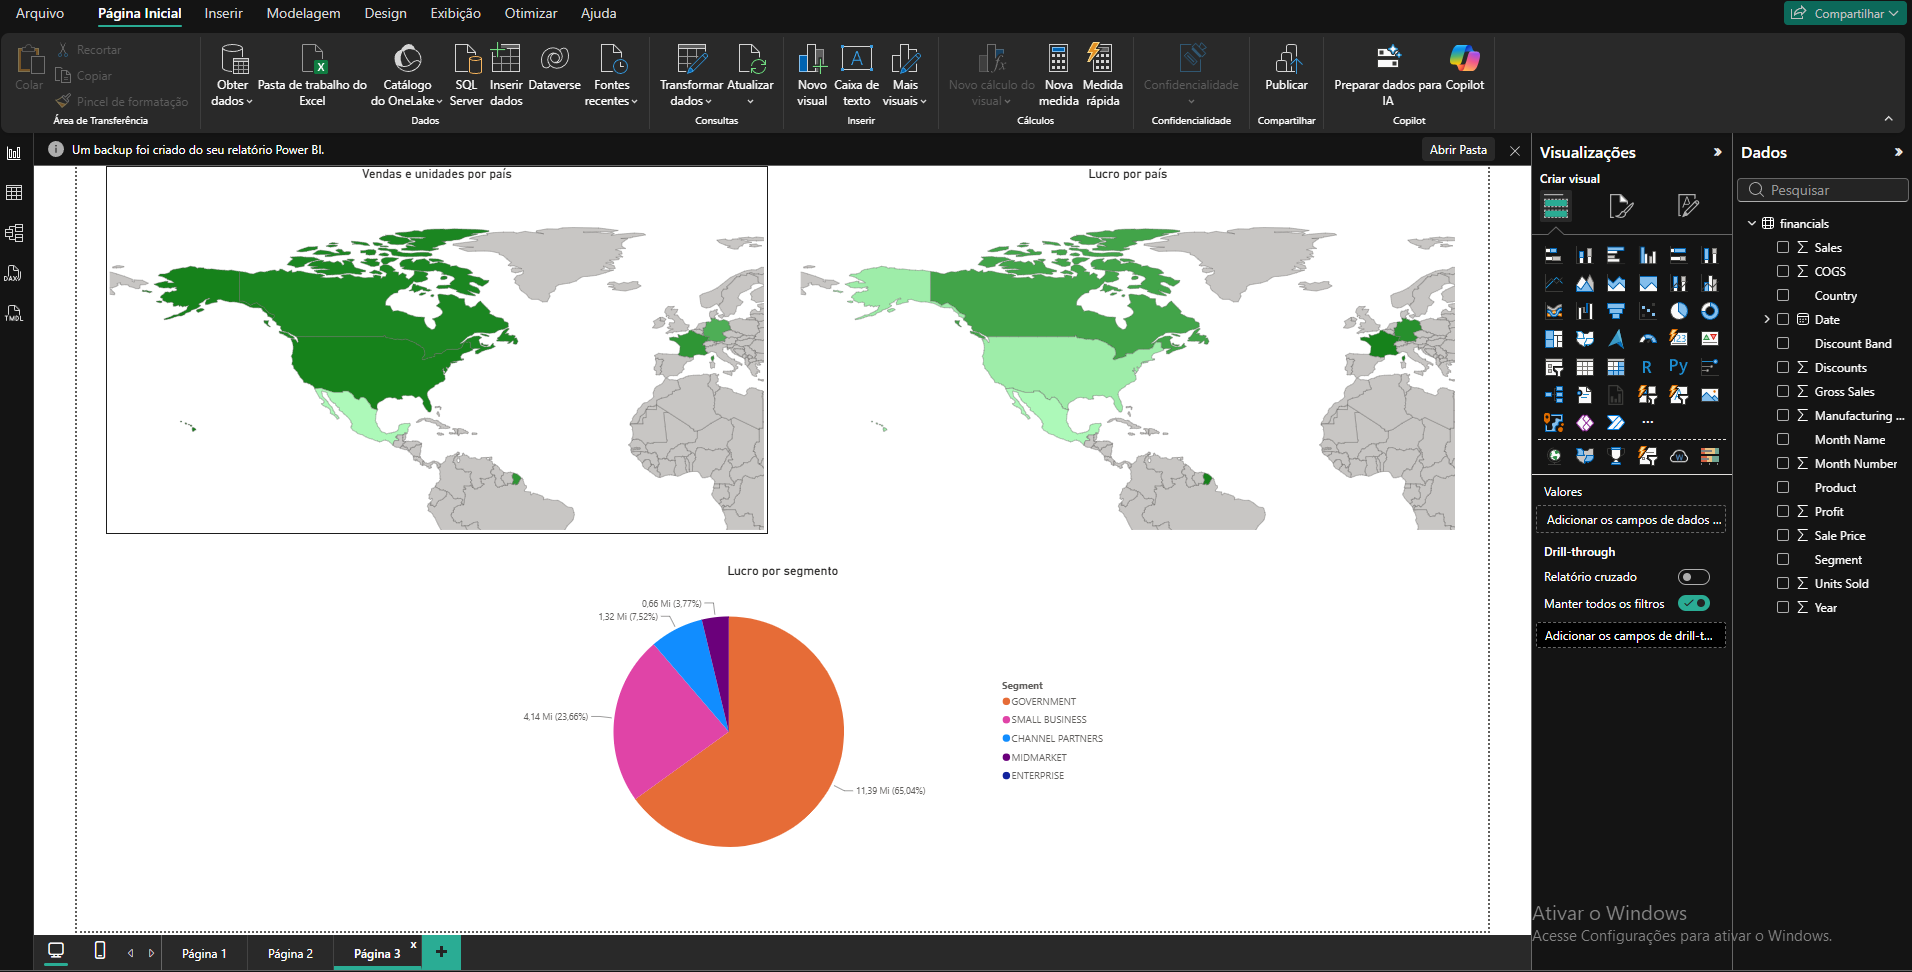

The page's visual inventory and layout, read from the dashboard file:
{"tool":"powerbi","page":{"name":"Página 3","canvas":[1920,1080],"ordinal":2},"visuals":[{"type":"shapeMap","title":"Lucro por país","fields":{"Category":["financials.Country"],"Value":["Sum(financials.Profit)"]},"box":[980,40,900,500],"z":0},{"type":"shapeMap","title":"Vendas e unidades por país","fields":{"Category":["financials.Country"],"Value":["Sum(financials. Sales)"]},"box":[40,40,900,500],"z":1},{"type":"pieChart","title":"Lucro por segmento","fields":{"Category":["financials.Segment"],"Y":["Sum(financials.Profit)"]},"box":[510,580,900,440],"z":2}]}

Visuals, with their boxes on the page's 1920x1080 design canvas (x1, y1, x2, y2). These are canvas units, not pixel positions in the 1912x972 screenshot, which may show the page scaled, cropped or inside an application window:
"Lucro por país" shapeMap: [980,40,1880,540]
"Vendas e unidades por país" shapeMap: [40,40,940,540]
"Lucro por segmento" pieChart: [510,580,1410,1020]
